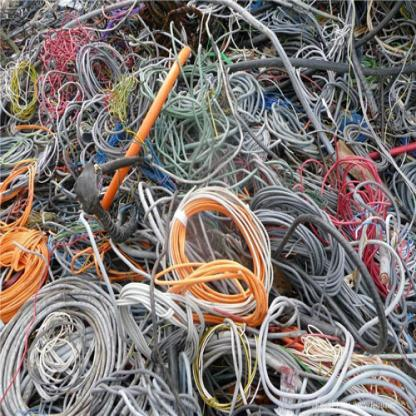wires: (2, 1, 413, 413)
